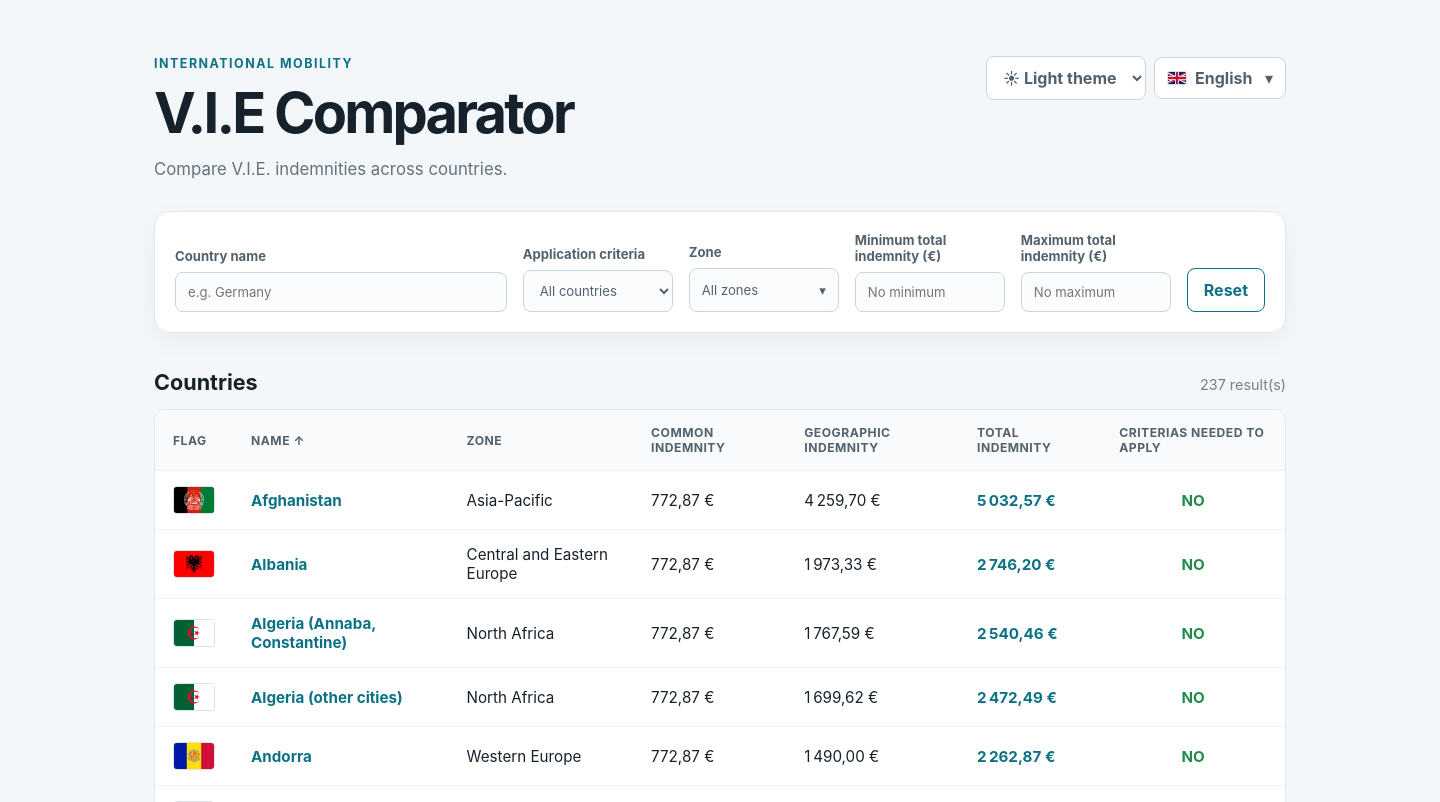
Integration tests: V.I.E Comparator › filters countries by application criteria status
Select "YES" in the dropdown with test id "criteria-filter" at (598, 291), box [523,270,673,312]
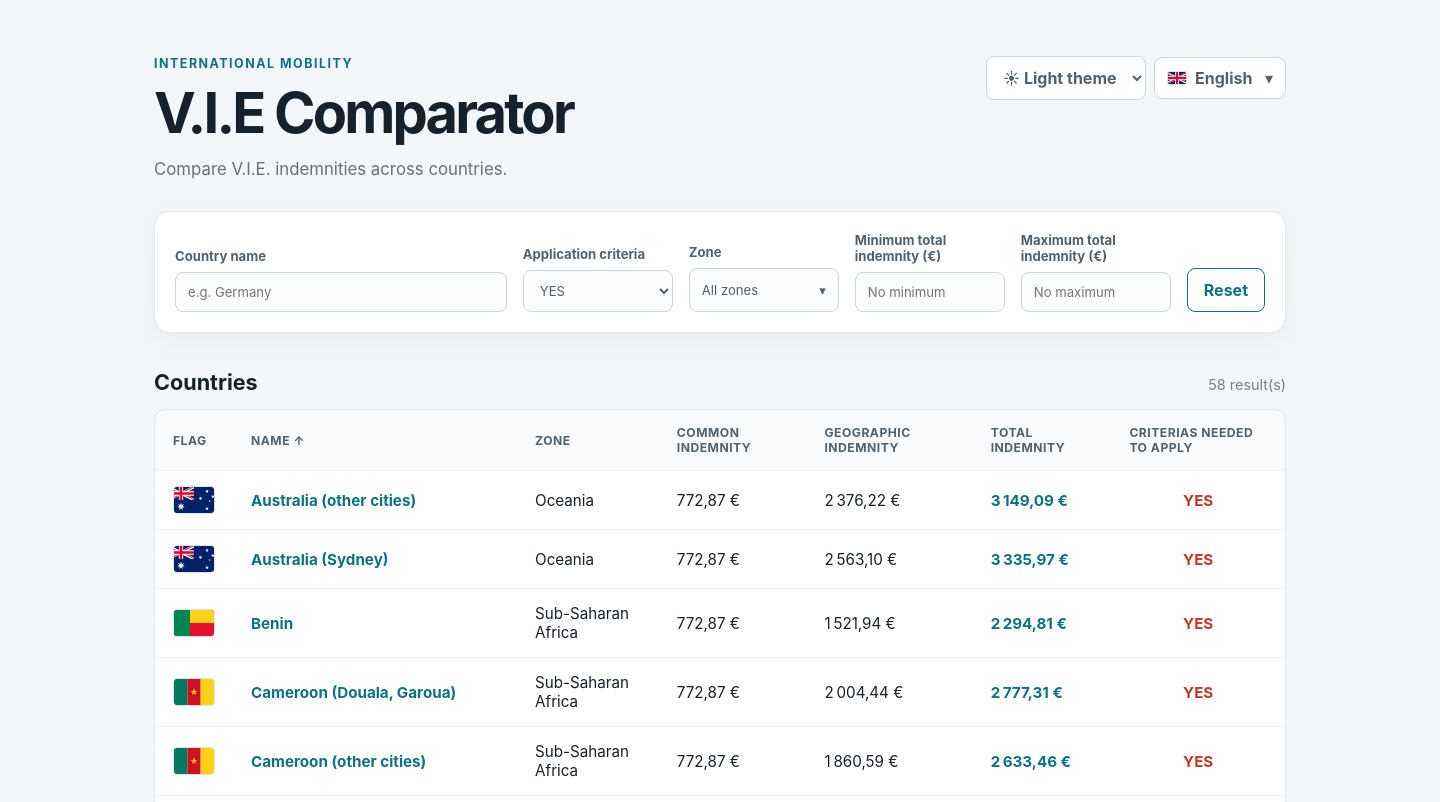
Result: the button "Benin" is shown at [251,614,293,632]
Result: the button "Afghanistan" no longer shows "Afghanistan"
Select "NO" in the dropdown with test id "criteria-filter" at (598, 291), box [523,270,673,312]
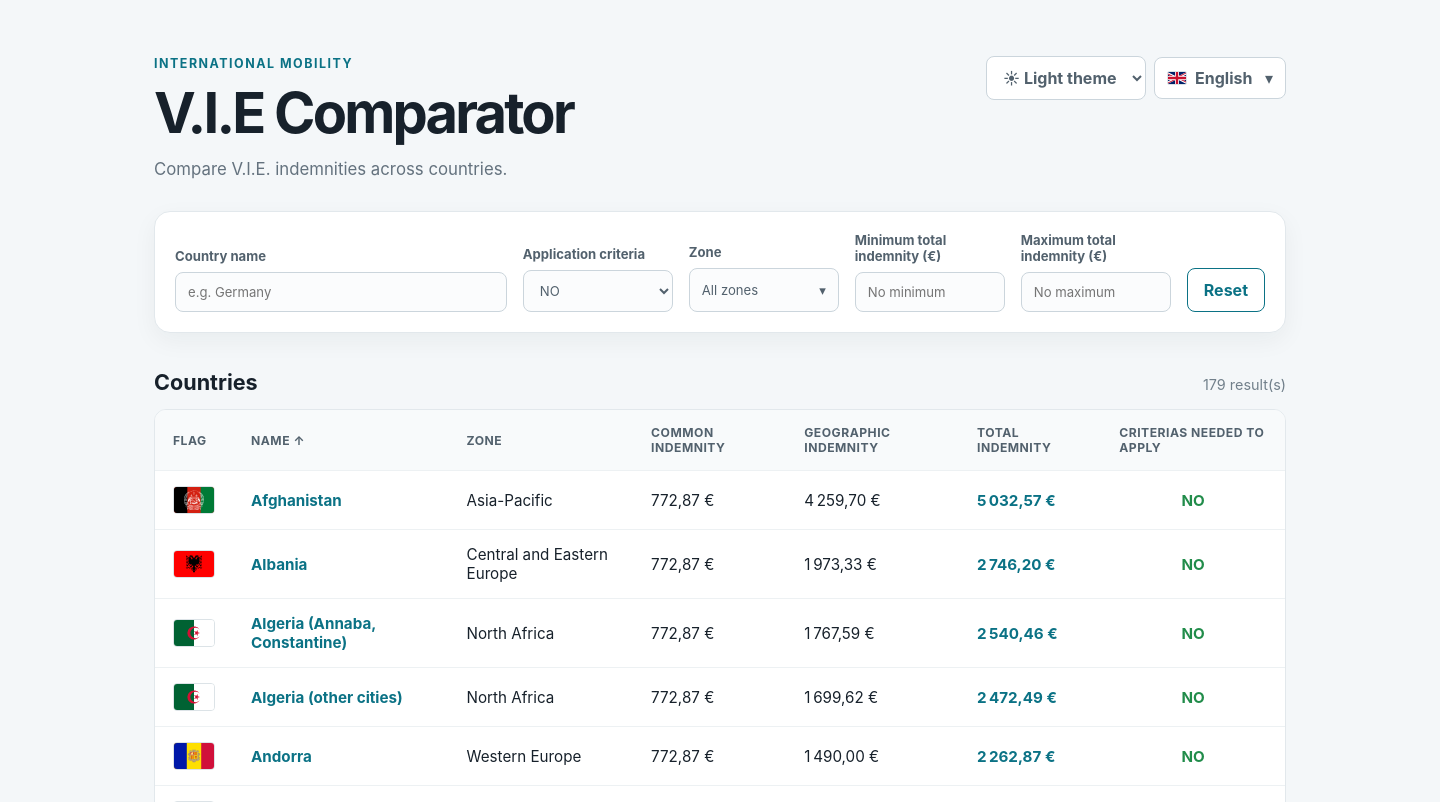
Result: the button "Afghanistan" is shown at [251,490,342,510]
Result: the button "Benin" no longer shows "Benin"
